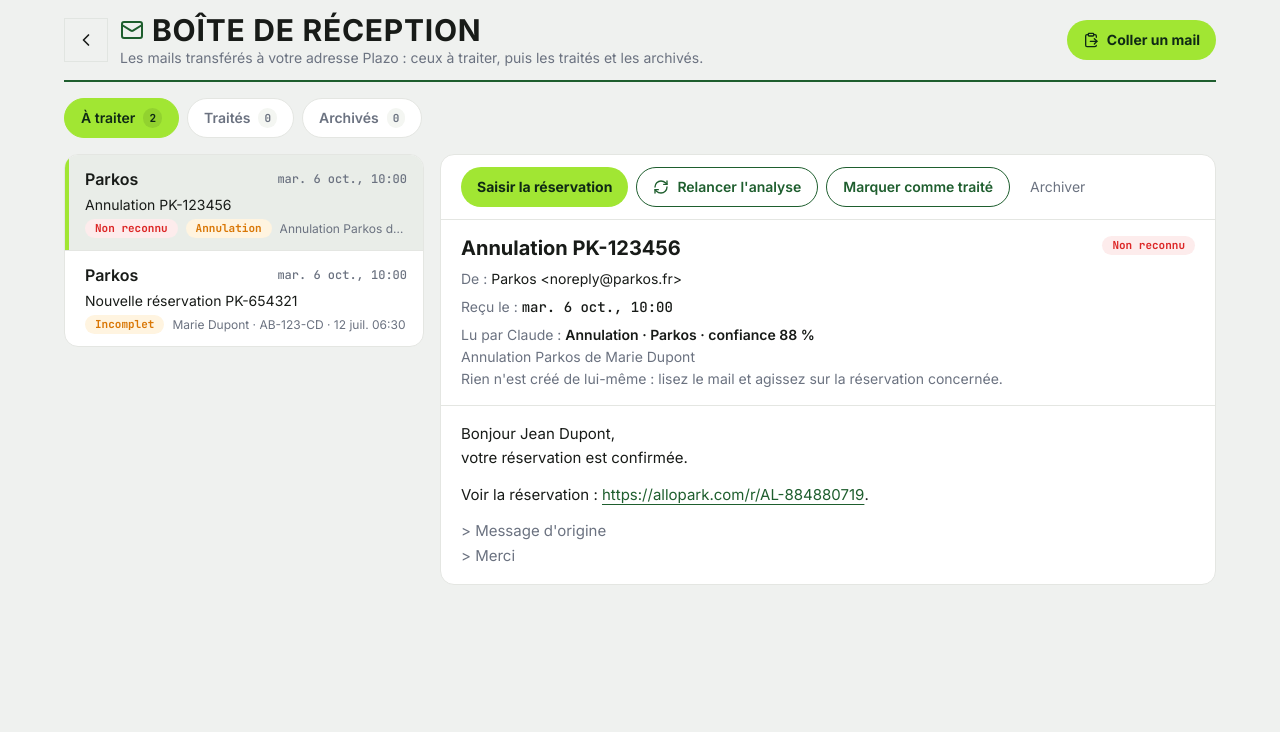
InboundEmailsPage (M-A « Boîte de réception », T-A « Deux gestes ») › L-A : montre ce que Claude a lu, la pastille du genre et le résumé d'un mail sans champs
Expected: the element with test id "inbound-kind" reads "Annulation", [196,221,262,235]
Expected: the 1st text "Annulation Parkos de Marie Dupont" is shown, [280,220,407,236]
// The unsure booking: the warning, and no "manquant" field for the confidence itself.
Click the 7th button at (244, 298), box [65,251,423,346]
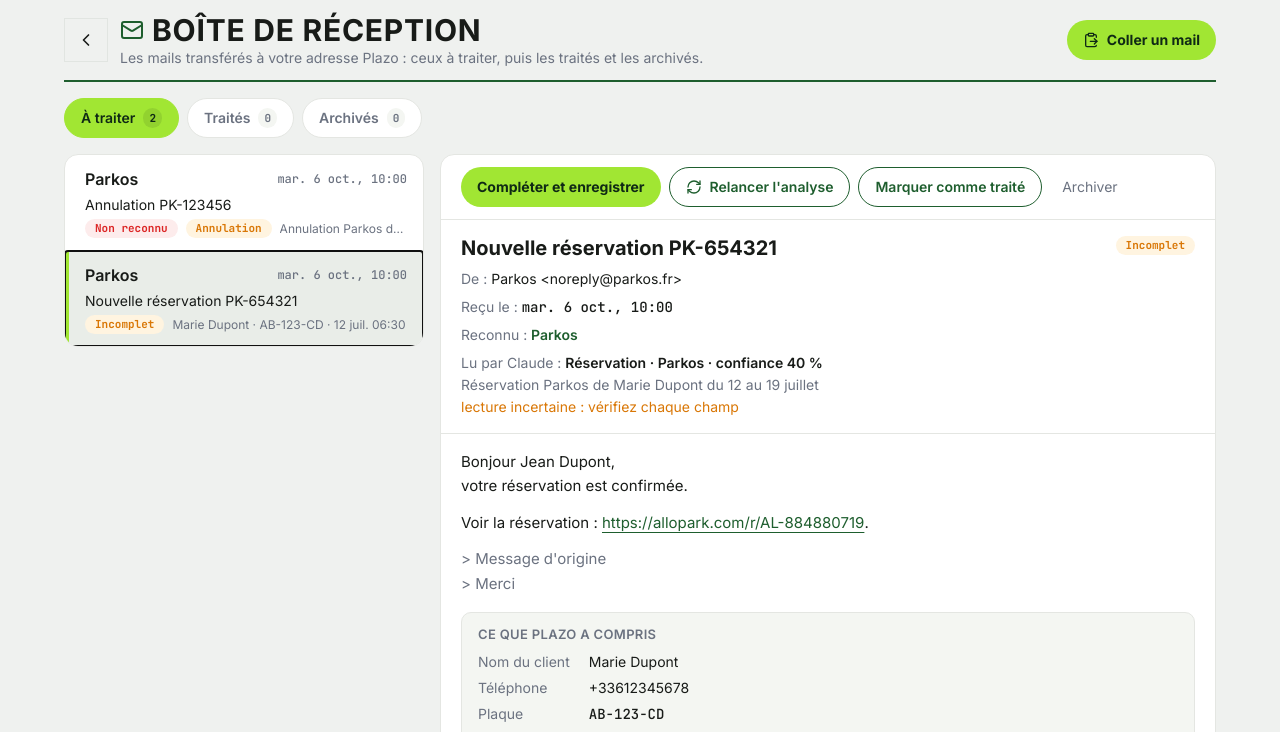
Now the text "Réservation · Parkos · confiance 40 %" is shown, box [565,354,823,371]
Now the text "lecture incertaine : vérifiez chaque champ" is shown, box [461,398,739,415]
Now the button "Compléter et enregistrer" is shown, box [461,167,661,207]
